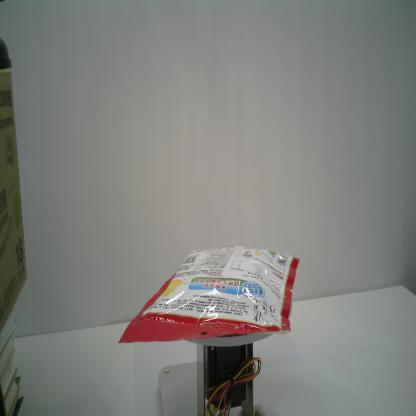Instant Drink: (116, 243, 301, 345)
